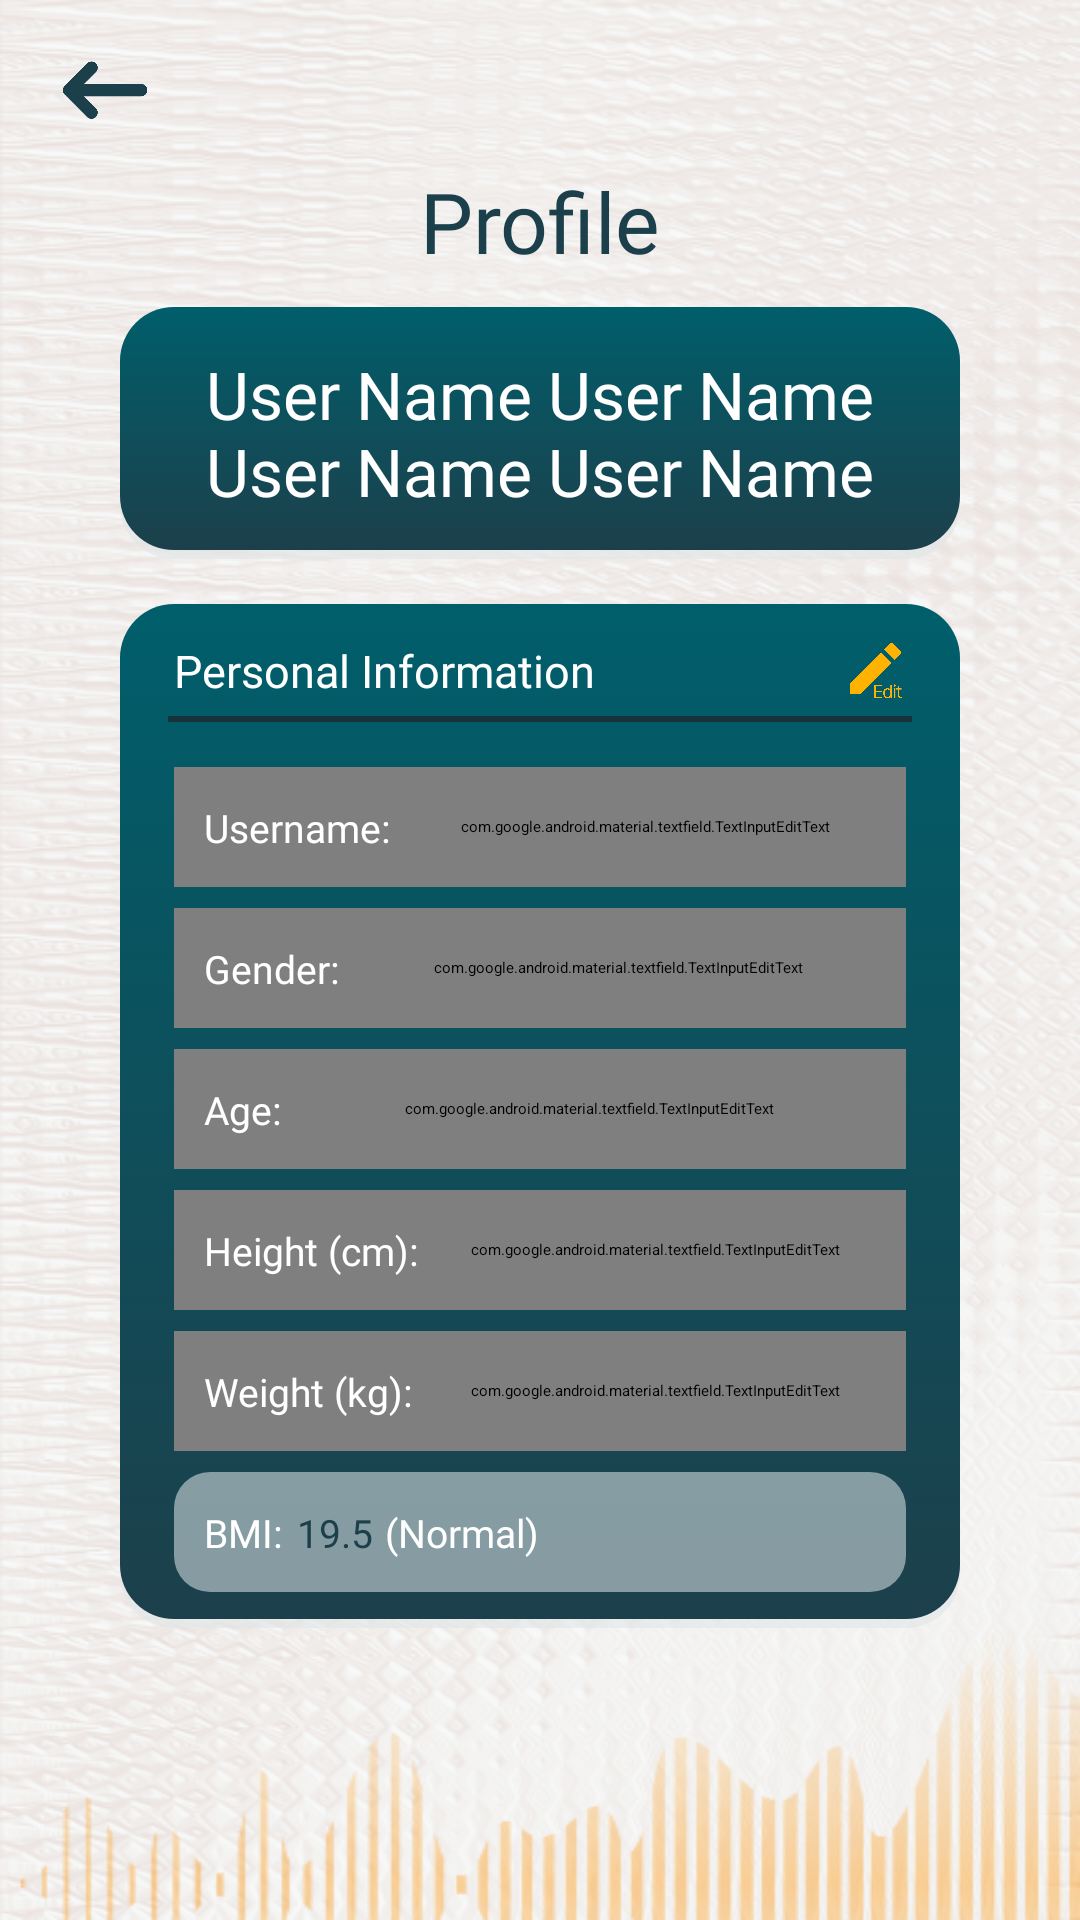

Where icons sit on this 1080px×1920px app screen, as (x1, y1, x2, y2):
back: (63, 61, 147, 119)
